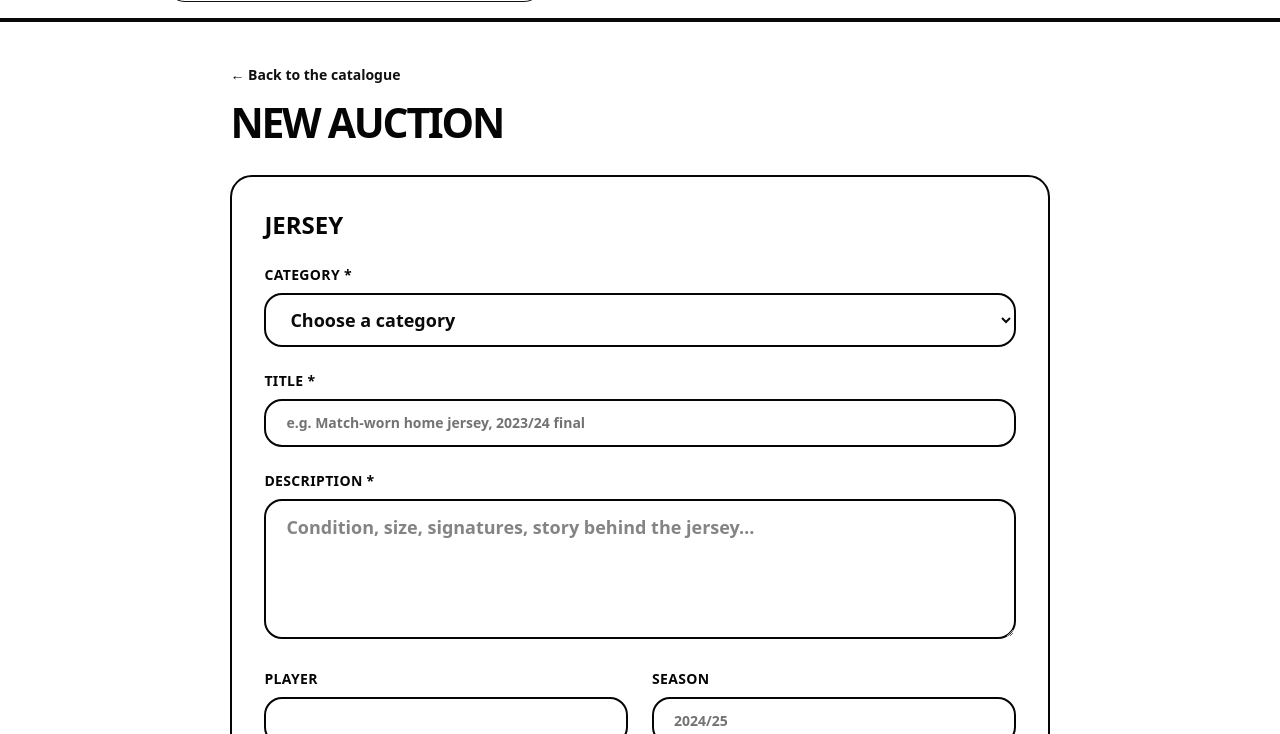
NewListingView: errors from the server › explains that the club is not approved yet
Select "Player jerseys" in the dropdown labelled "Category *": coordinates (640, 320) [264, 293, 1016, 347]
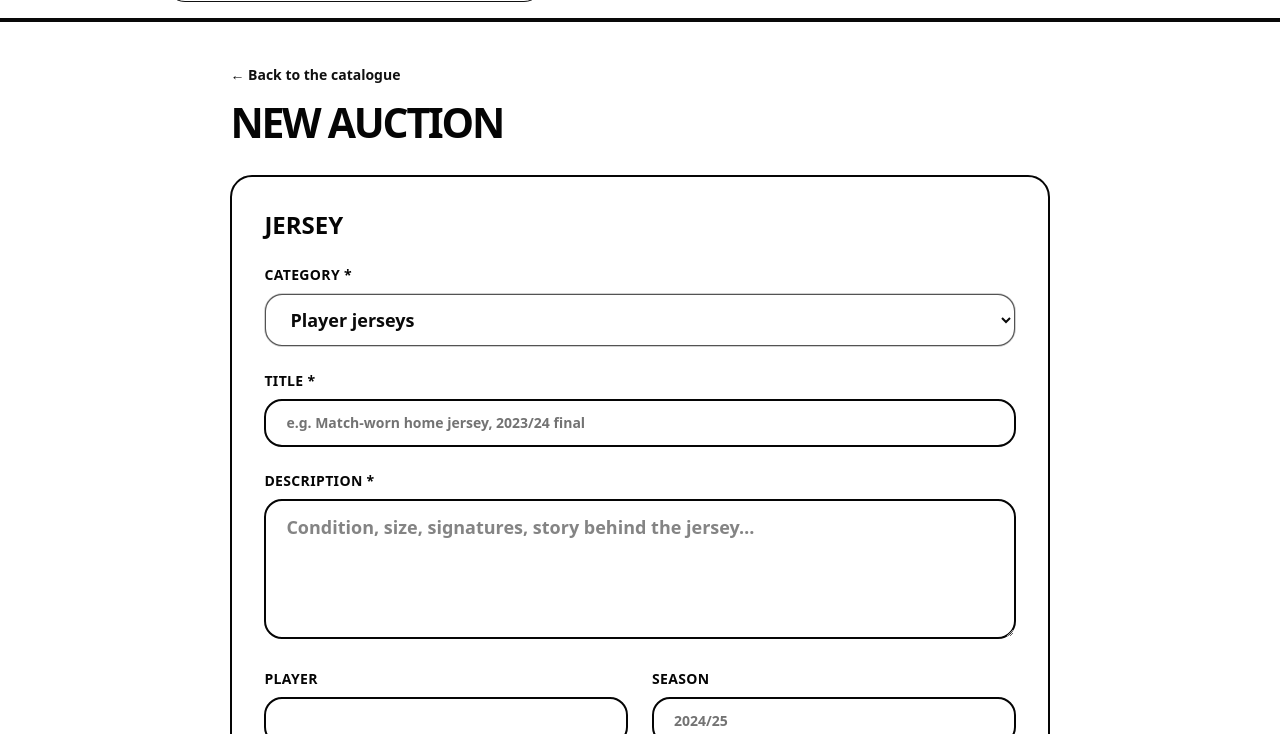
In the field labelled "Title *": coordinates (640, 423) [264, 399, 1016, 447], type "Signed home shirt"
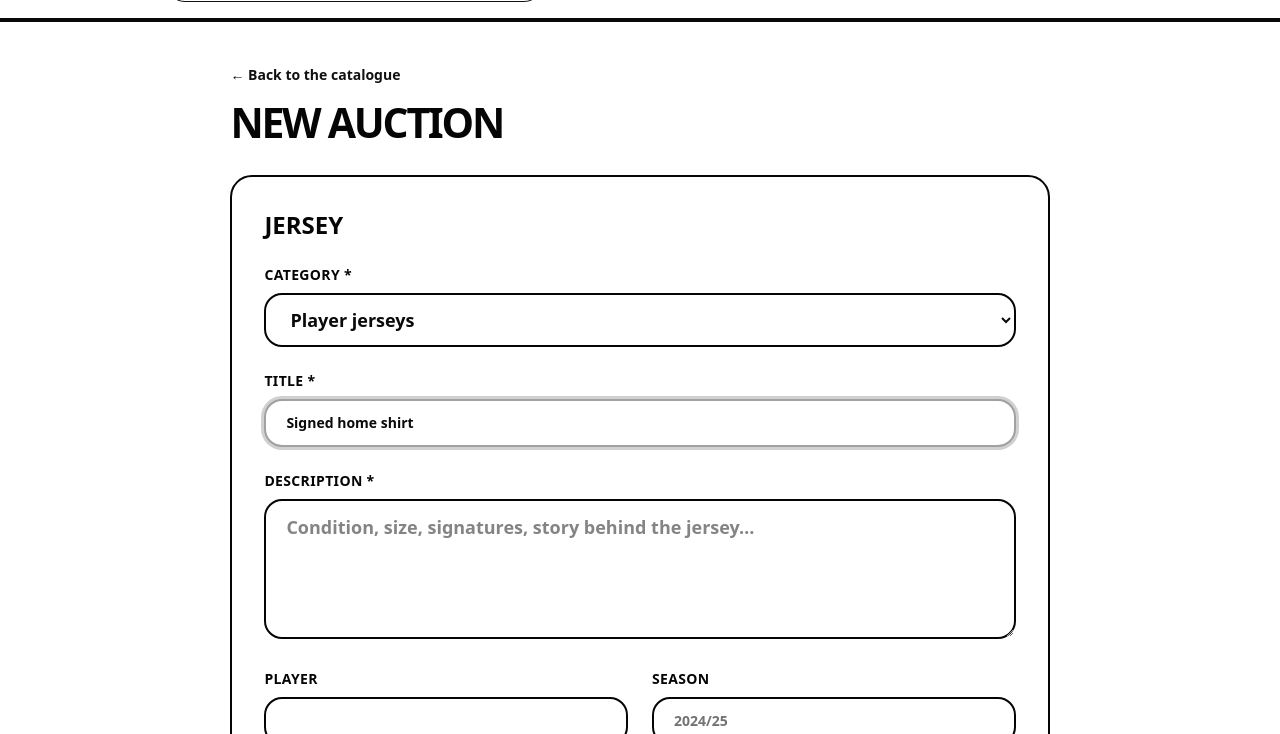
In the text box labelled "Description *": coordinates (640, 569) [264, 499, 1016, 639], type "Signed by the whole squad after the final."
(page scrolled)
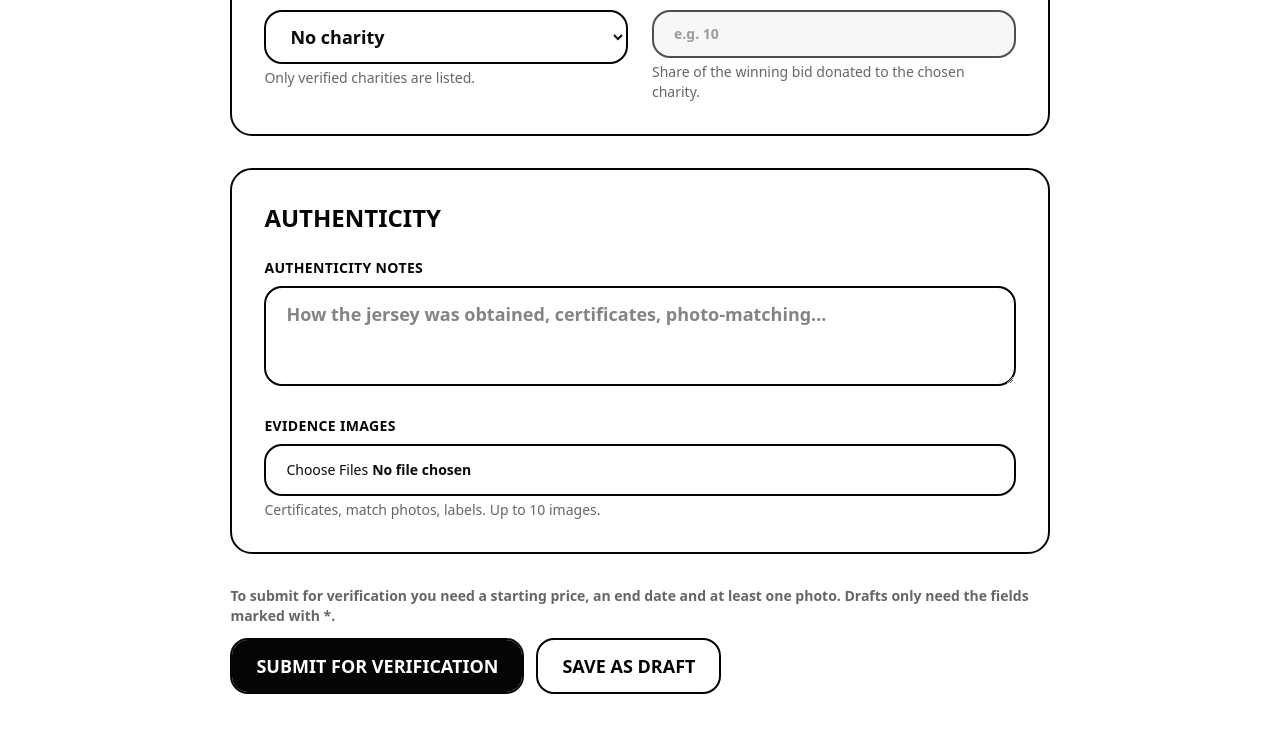
Click the button "SAVE AS DRAFT": coordinates (629, 666) [536, 638, 721, 694]
(page scrolled)
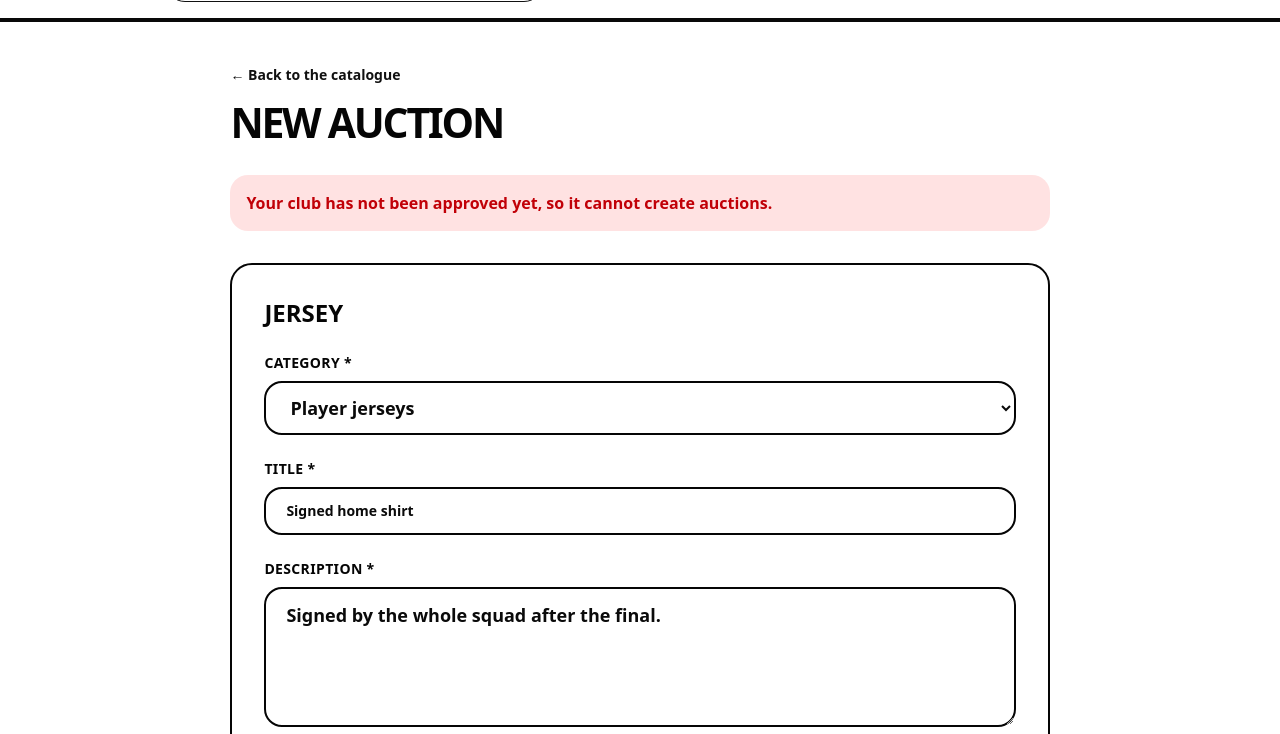
Result: the message reads "Your club has not been approved yet, so it cannot create auctions." at [246, 192, 772, 214]
